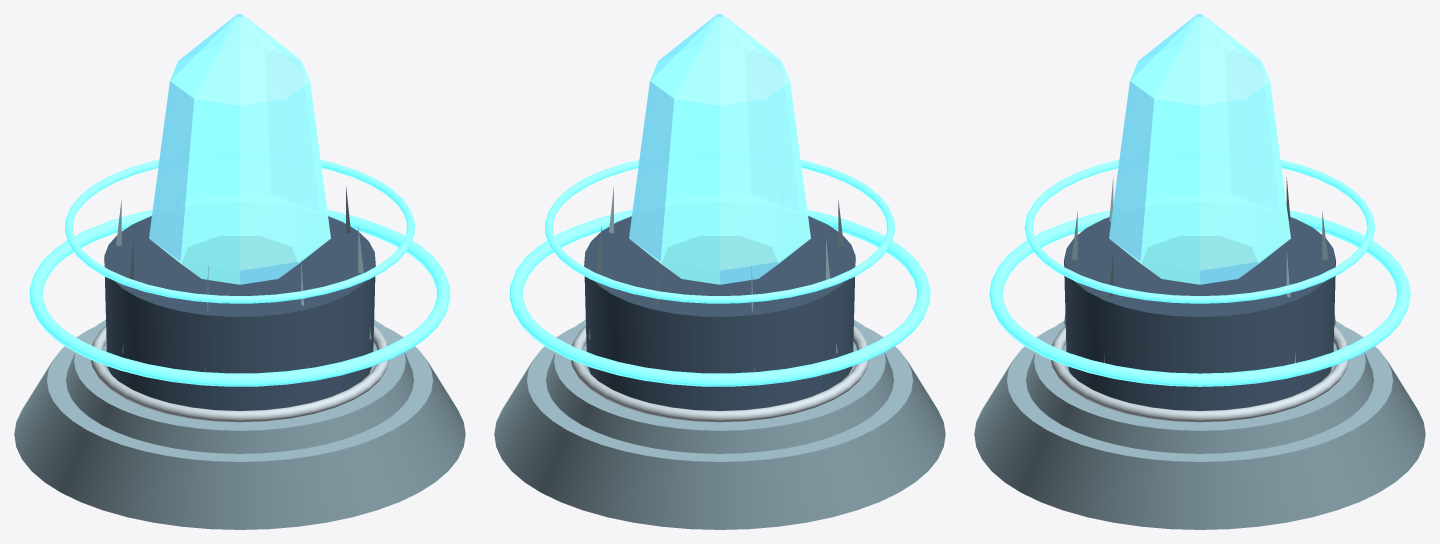
Rendered from studio-beacon.gltf.
3 views of the same model, side by side, from view 1: azimuth 30°, elevation 25°; view 2: azimuth 150°, elevation 25°; view 3: azimuth 270°, elevation 25° (orthographic).
Visible parts, largest first — view 1: Titanium pedestal / studio beacon, Machined dark core, Floating abstract energy sculpture, Floating luminous rings, Outer indicator ring; view 2: Titanium pedestal / studio beacon, Machined dark core, Floating abstract energy sculpture, Floating luminous rings, Outer indicator ring; view 3: Titanium pedestal / studio beacon, Machined dark core, Floating abstract energy sculpture, Floating luminous rings, Outer indicator ring.
Boxes of the visible parts, <box> form: Titanium pedestal / studio beacon: <box>14,319,465,529</box>; Machined dark core: <box>104,216,375,410</box>; Floating abstract energy sculpture: <box>149,14,330,284</box>; Floating luminous rings: <box>29,160,450,386</box>; Outer indicator ring: <box>91,326,388,422</box>; Titanium pedestal / studio beacon: <box>494,319,945,529</box>; Machined dark core: <box>584,216,855,410</box>; Floating abstract energy sculpture: <box>629,14,810,284</box>; Floating luminous rings: <box>509,160,930,386</box>; Outer indicator ring: <box>571,326,868,422</box>; Titanium pedestal / studio beacon: <box>974,321,1425,529</box>; Machined dark core: <box>1064,217,1335,410</box>; Floating abstract energy sculpture: <box>1109,14,1290,284</box>; Floating luminous rings: <box>989,160,1410,386</box>; Outer indicator ring: <box>1051,326,1348,422</box>.
Bounding box in the file's own units: 1.66 × 1.7 × 1.66.
